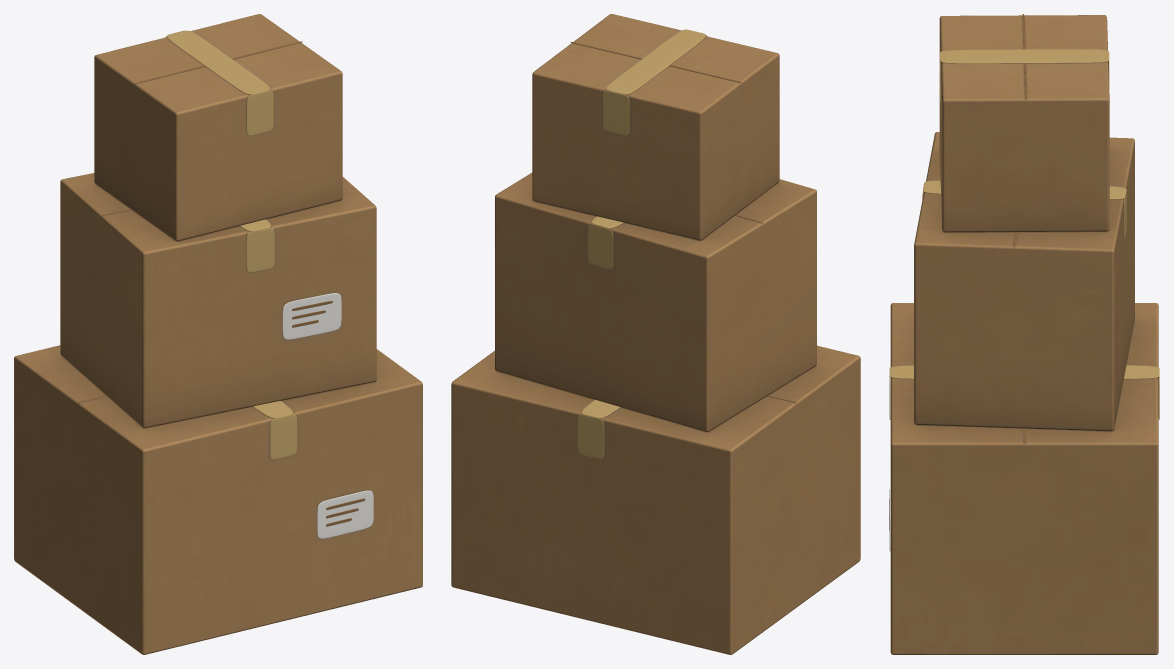
The model's file is stack-of-three.glb.
3 views of the same model, side by side, from view 1: azimuth 30°, elevation 25°; view 2: azimuth 150°, elevation 25°; view 3: azimuth 270°, elevation 25° (orthographic). The views are drawn at different scales.
Visible parts, largest first — view 1: cardboard, tape, label_white, cardboard_dark; view 2: cardboard, tape; view 3: cardboard, tape.
Boxes of the visible parts, x1,y1,x2,y2 form: cardboard: [14, 14, 422, 654]; tape: [165, 30, 297, 459]; label_white: [282, 293, 373, 538]; cardboard_dark: [78, 41, 365, 526]; cardboard: [451, 14, 860, 654]; tape: [577, 29, 707, 459]; cardboard: [890, 15, 1158, 654]; tape: [889, 49, 1159, 419].
Bounding box in the file's own units: 0.501 × 0.8714 × 0.4034.
4 materials, 1 textured.
